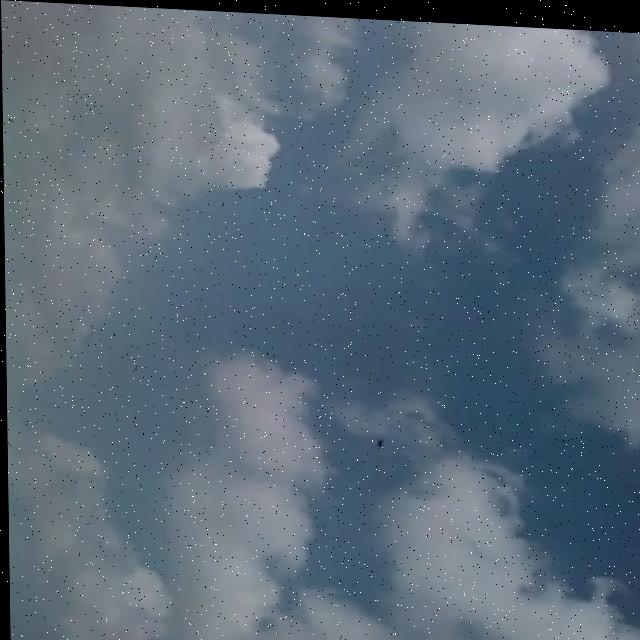drone: (367, 433, 391, 449)
